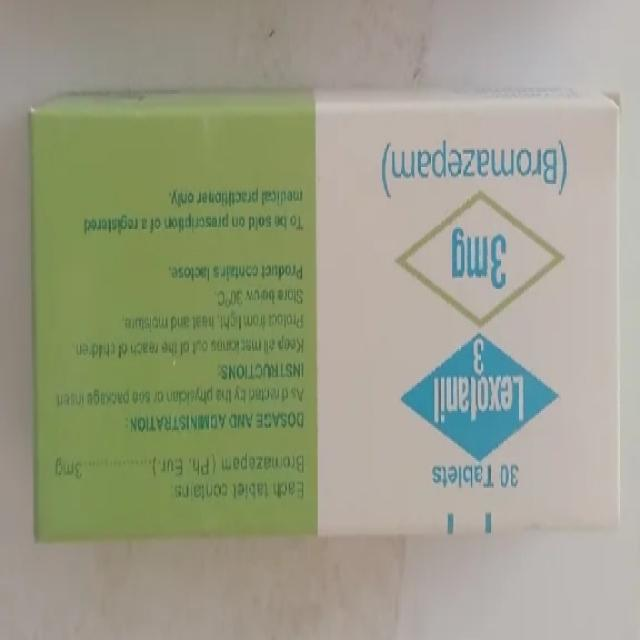drug-name: (434, 338, 526, 429)
